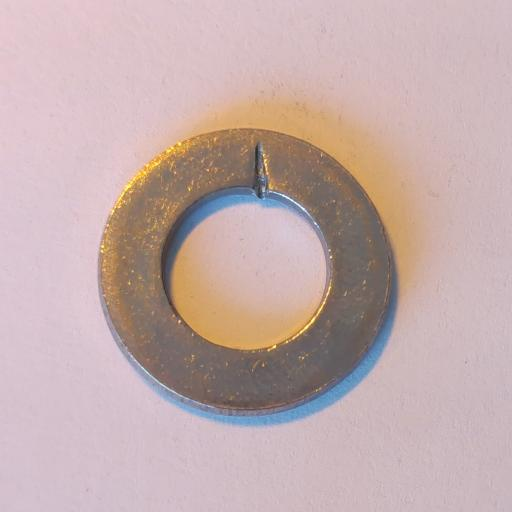scratch: (252, 143, 269, 200)
